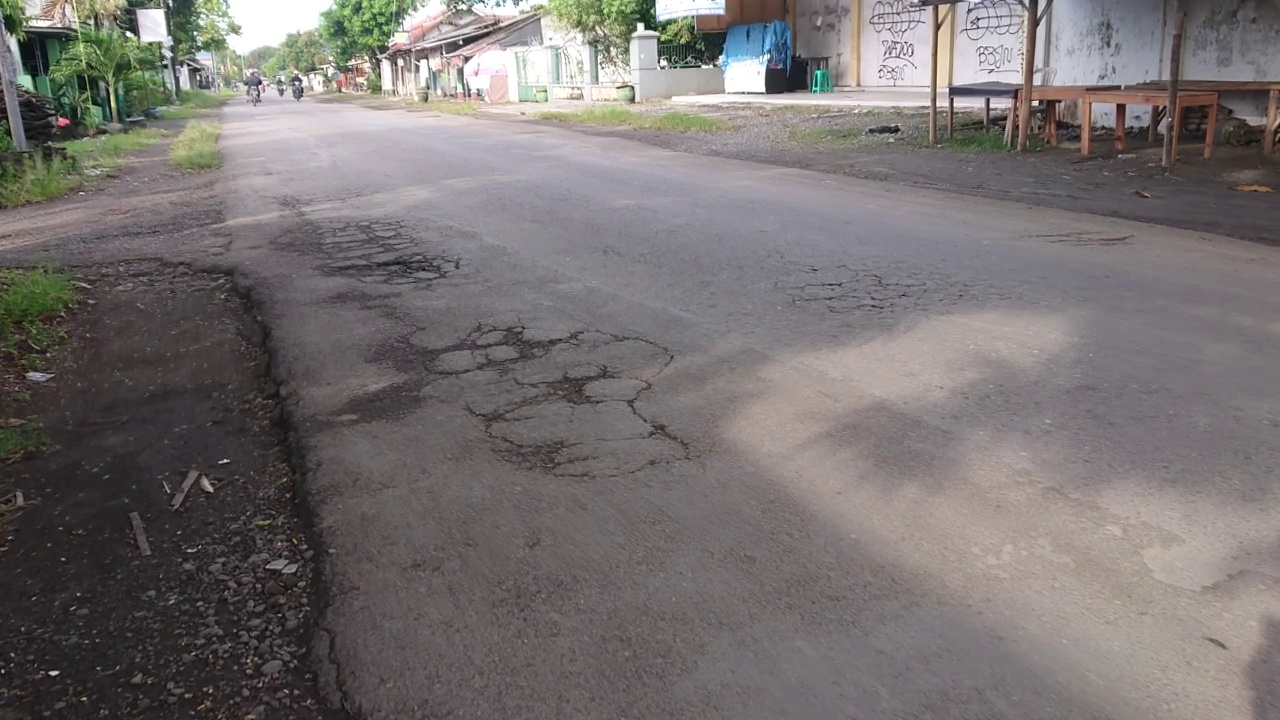Retak: (435, 328, 700, 478), (323, 217, 451, 313), (816, 259, 936, 335)
